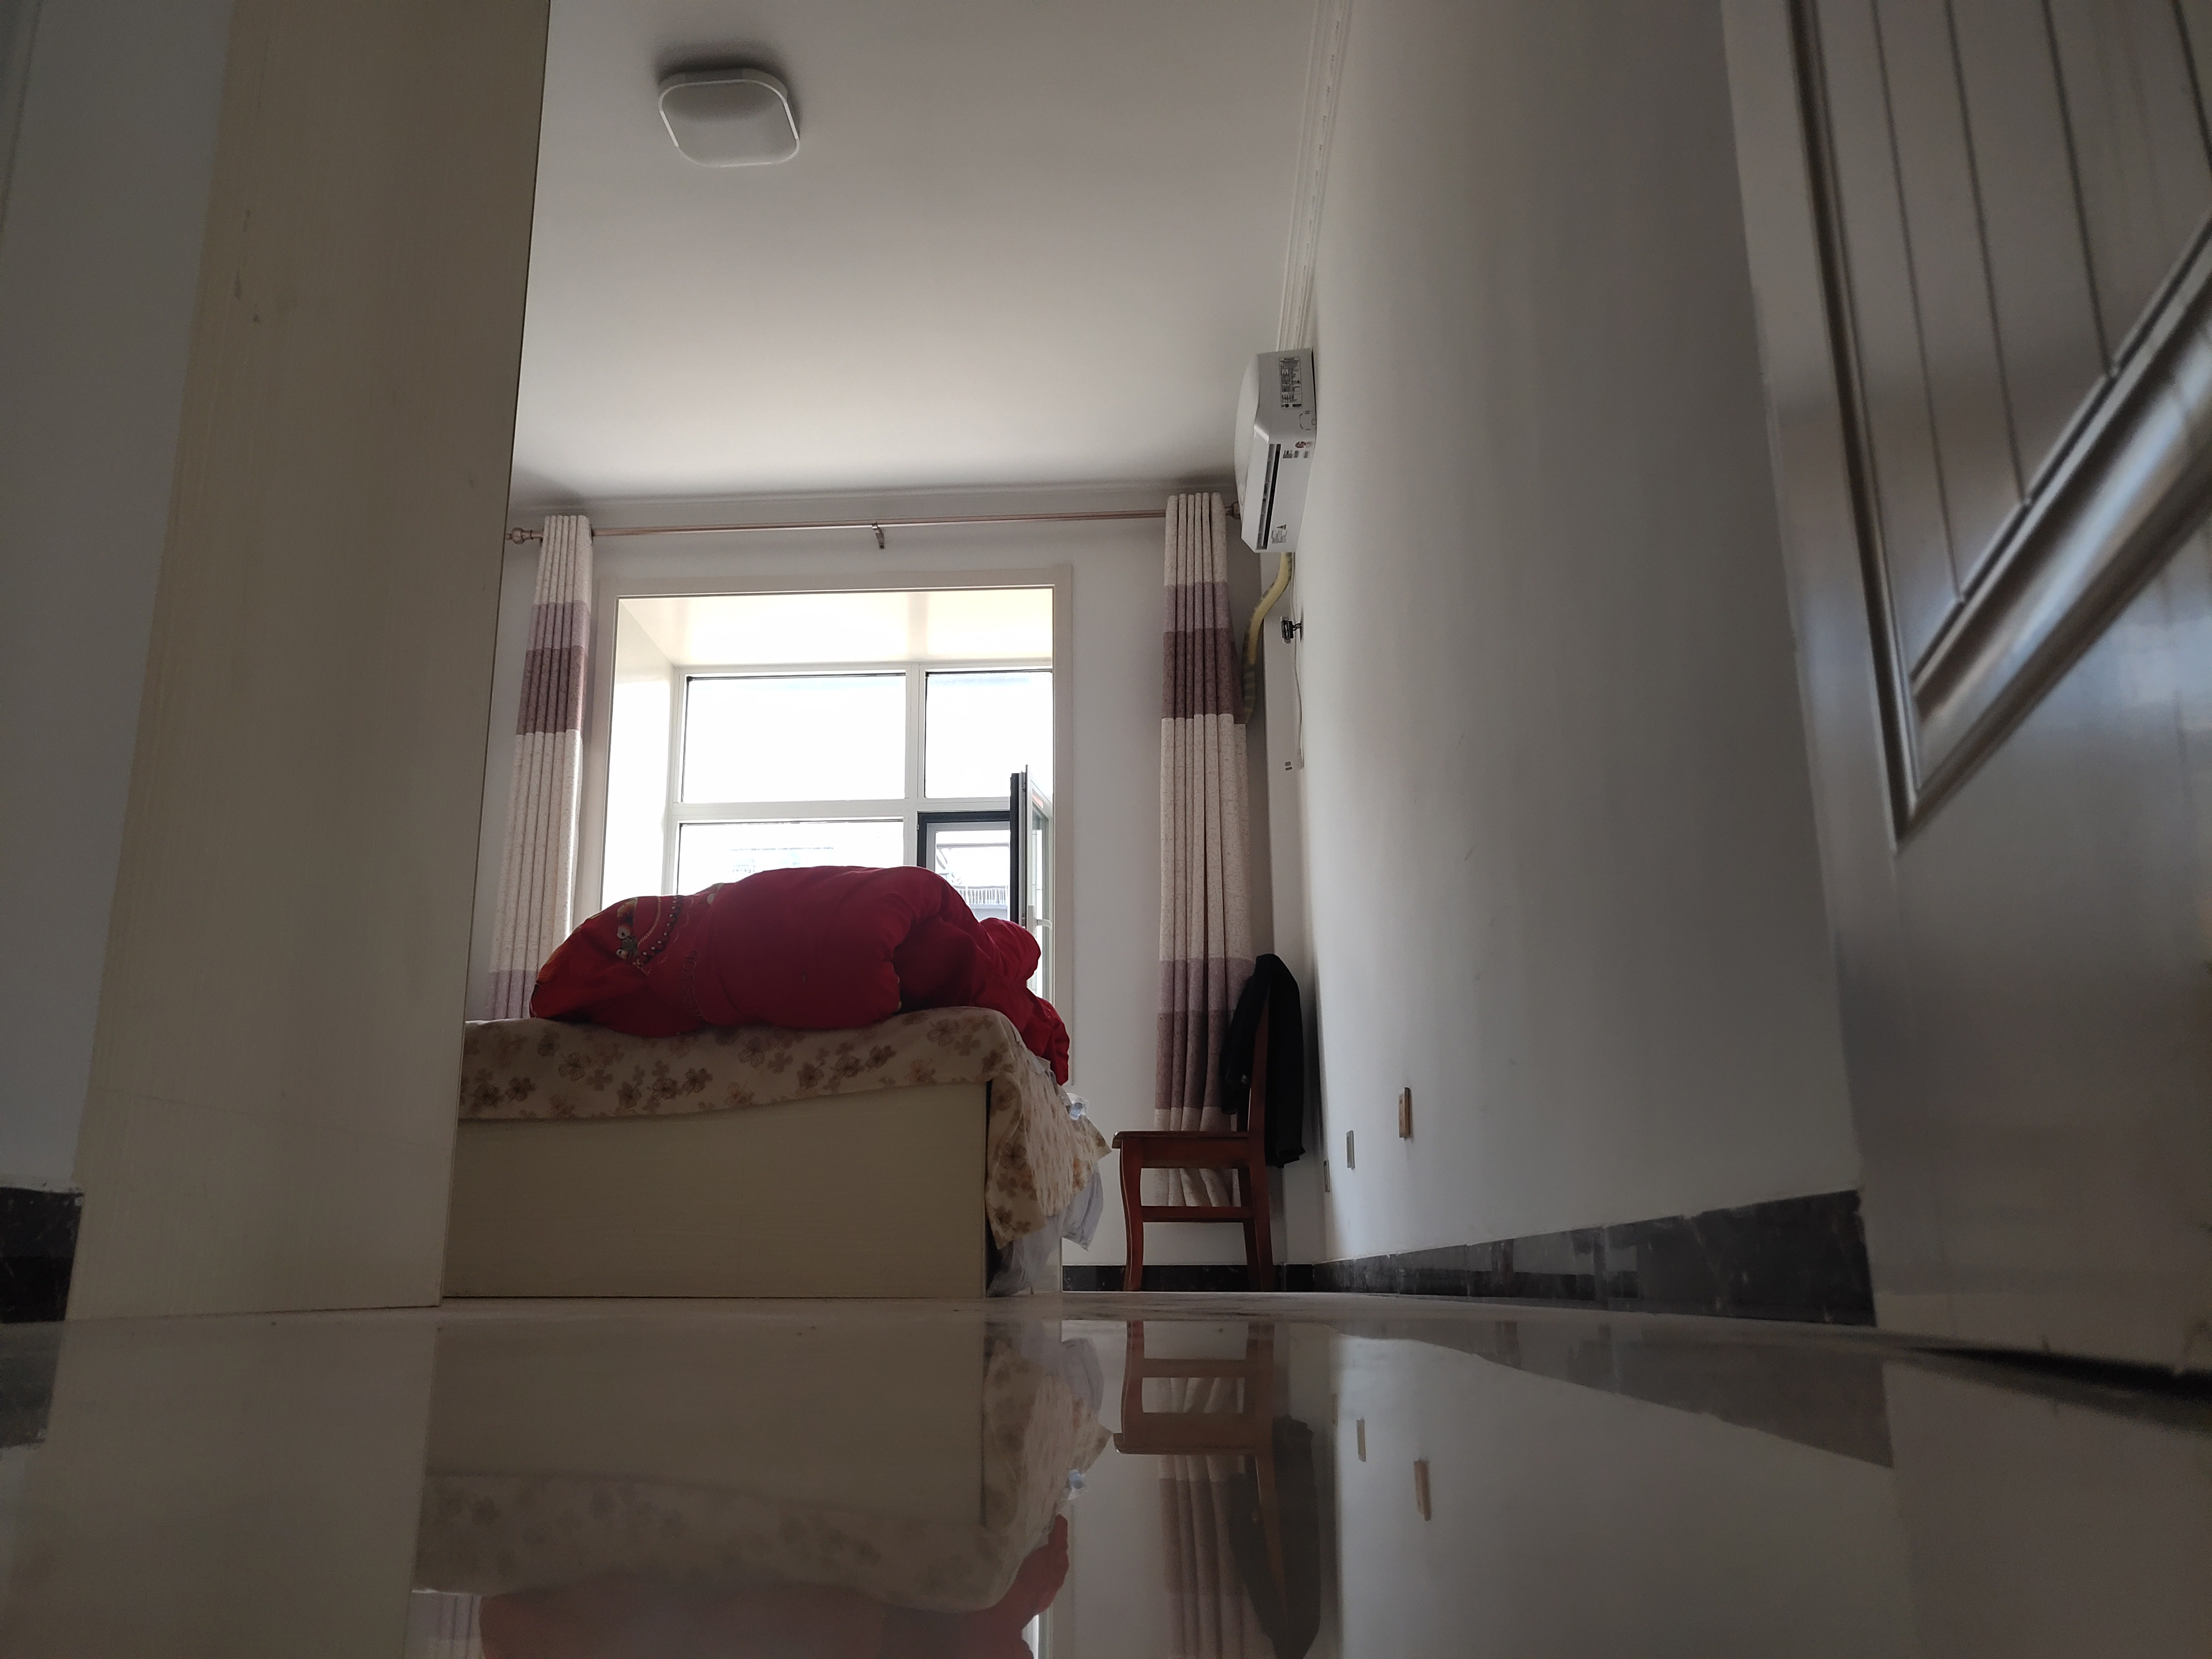bed: (441, 997, 1106, 1305)
curtain: (1146, 484, 1270, 1230), (496, 512, 594, 1000)
stool: (1104, 999, 1277, 1291)
